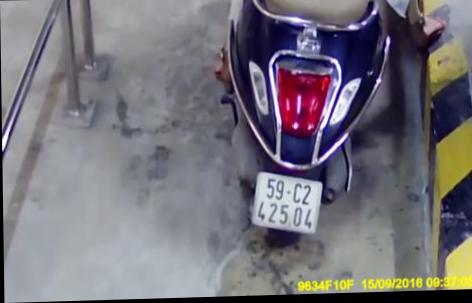LP: (249, 169, 324, 239)
